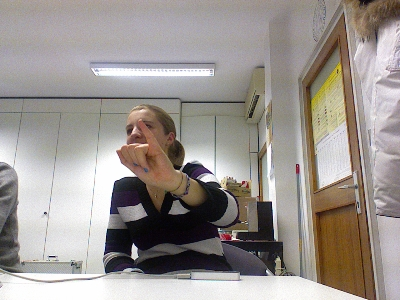小指: (115, 118, 178, 190)
